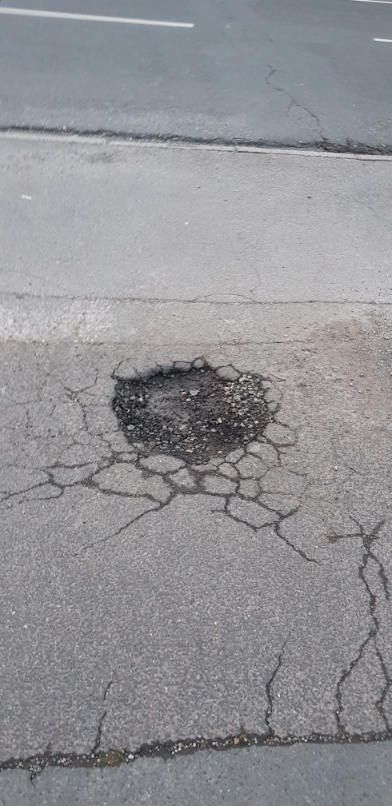pothole: (106, 354, 279, 474)
